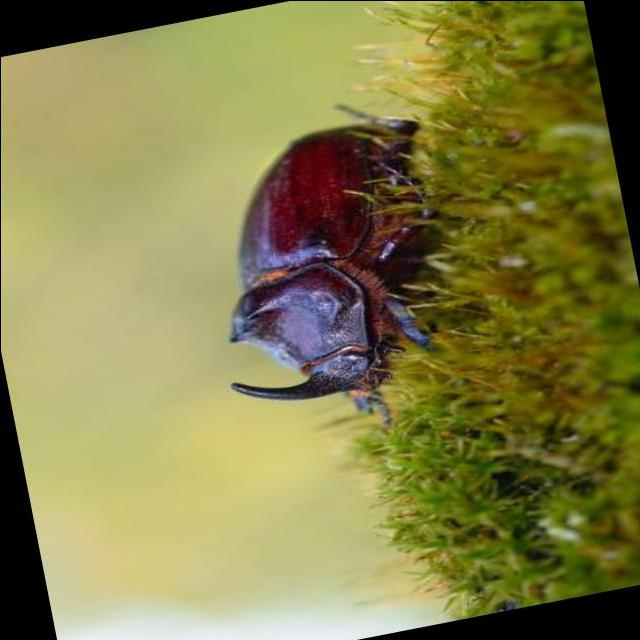Rhino-beetle: (213, 112, 456, 424)
